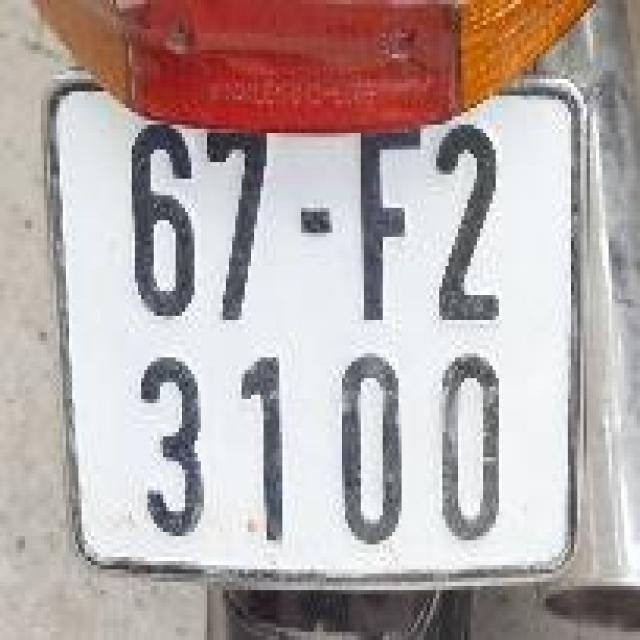0: (430, 343, 518, 555), (331, 343, 413, 546)
1: (230, 326, 306, 559)
2: (438, 108, 500, 341)
3: (130, 334, 218, 546)
6: (113, 108, 210, 337)
7: (202, 108, 281, 324)
F: (350, 100, 425, 328)
